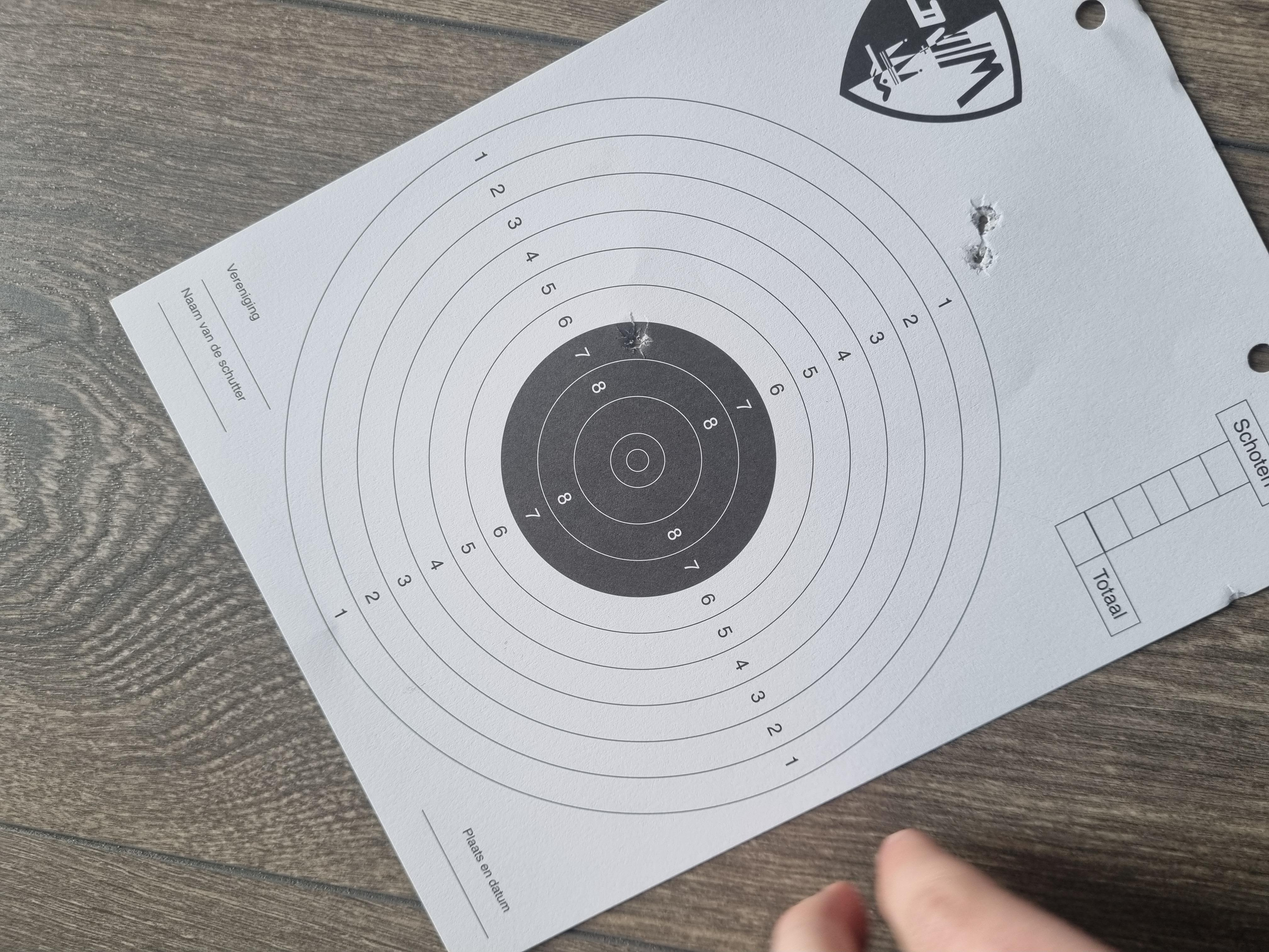hole: (791, 463, 853, 489), (955, 727, 1006, 749), (906, 723, 953, 744)
